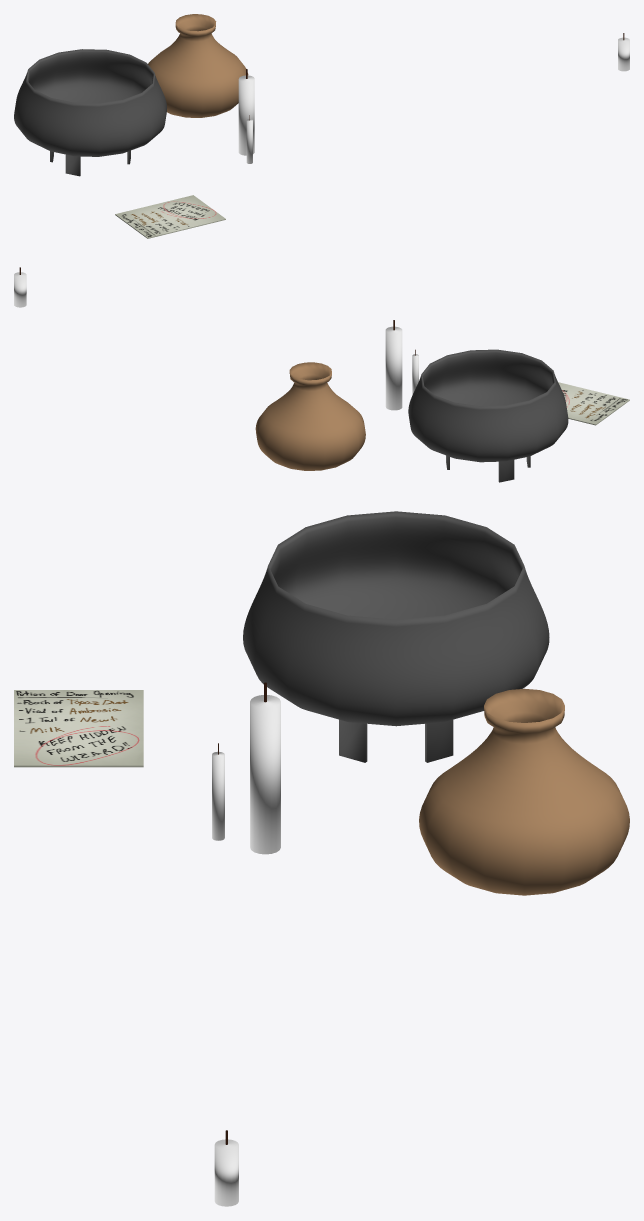
Rendered from wizardstuff 1.fbx.
The picture shows the model from 3 angles, top to bottom: view 1: azimuth 30°, elevation 25°; view 2: azimuth 150°, elevation 25°; view 3: azimuth 270°, elevation 25°; orthographic projection. The views are drawn at different scales.
Visible parts, largest first — view 1: BézierCurve, WackAhhVase1, Plane, BigFatCandle, TinyFatCandle; view 2: BézierCurve, WackAhhVase1, Plane, BigFatCandle, TinyFatCandle; view 3: BézierCurve, WackAhhVase1, Plane, BigFatCandle, TinyFatCandle, WeeCandle.
Part boxes in pixels (left/top/right/bottom): BézierCurve: left=14, top=49, right=166, bottom=176; WackAhhVase1: left=148, top=14, right=248, bottom=117; Plane: left=115, top=195, right=225, bottom=238; BigFatCandle: left=238, top=69, right=254, bottom=155; TinyFatCandle: left=618, top=33, right=629, bottom=71; BézierCurve: left=408, top=349, right=568, bottom=482; WackAhhVase1: left=255, top=362, right=365, bottom=470; Plane: left=558, top=382, right=629, bottom=425; BigFatCandle: left=385, top=320, right=402, bottom=410; TinyFatCandle: left=14, top=267, right=26, bottom=307; BézierCurve: left=243, top=511, right=549, bottom=762; WackAhhVase1: left=419, top=688, right=629, bottom=895; Plane: left=14, top=690, right=143, bottom=767; BigFatCandle: left=250, top=682, right=280, bottom=854; TinyFatCandle: left=214, top=1130, right=238, bottom=1206; WeeCandle: left=212, top=743, right=224, bottom=840.
Size of the model in its own units: 1436 by 216 by 686.
7 materials, 1 textured.
